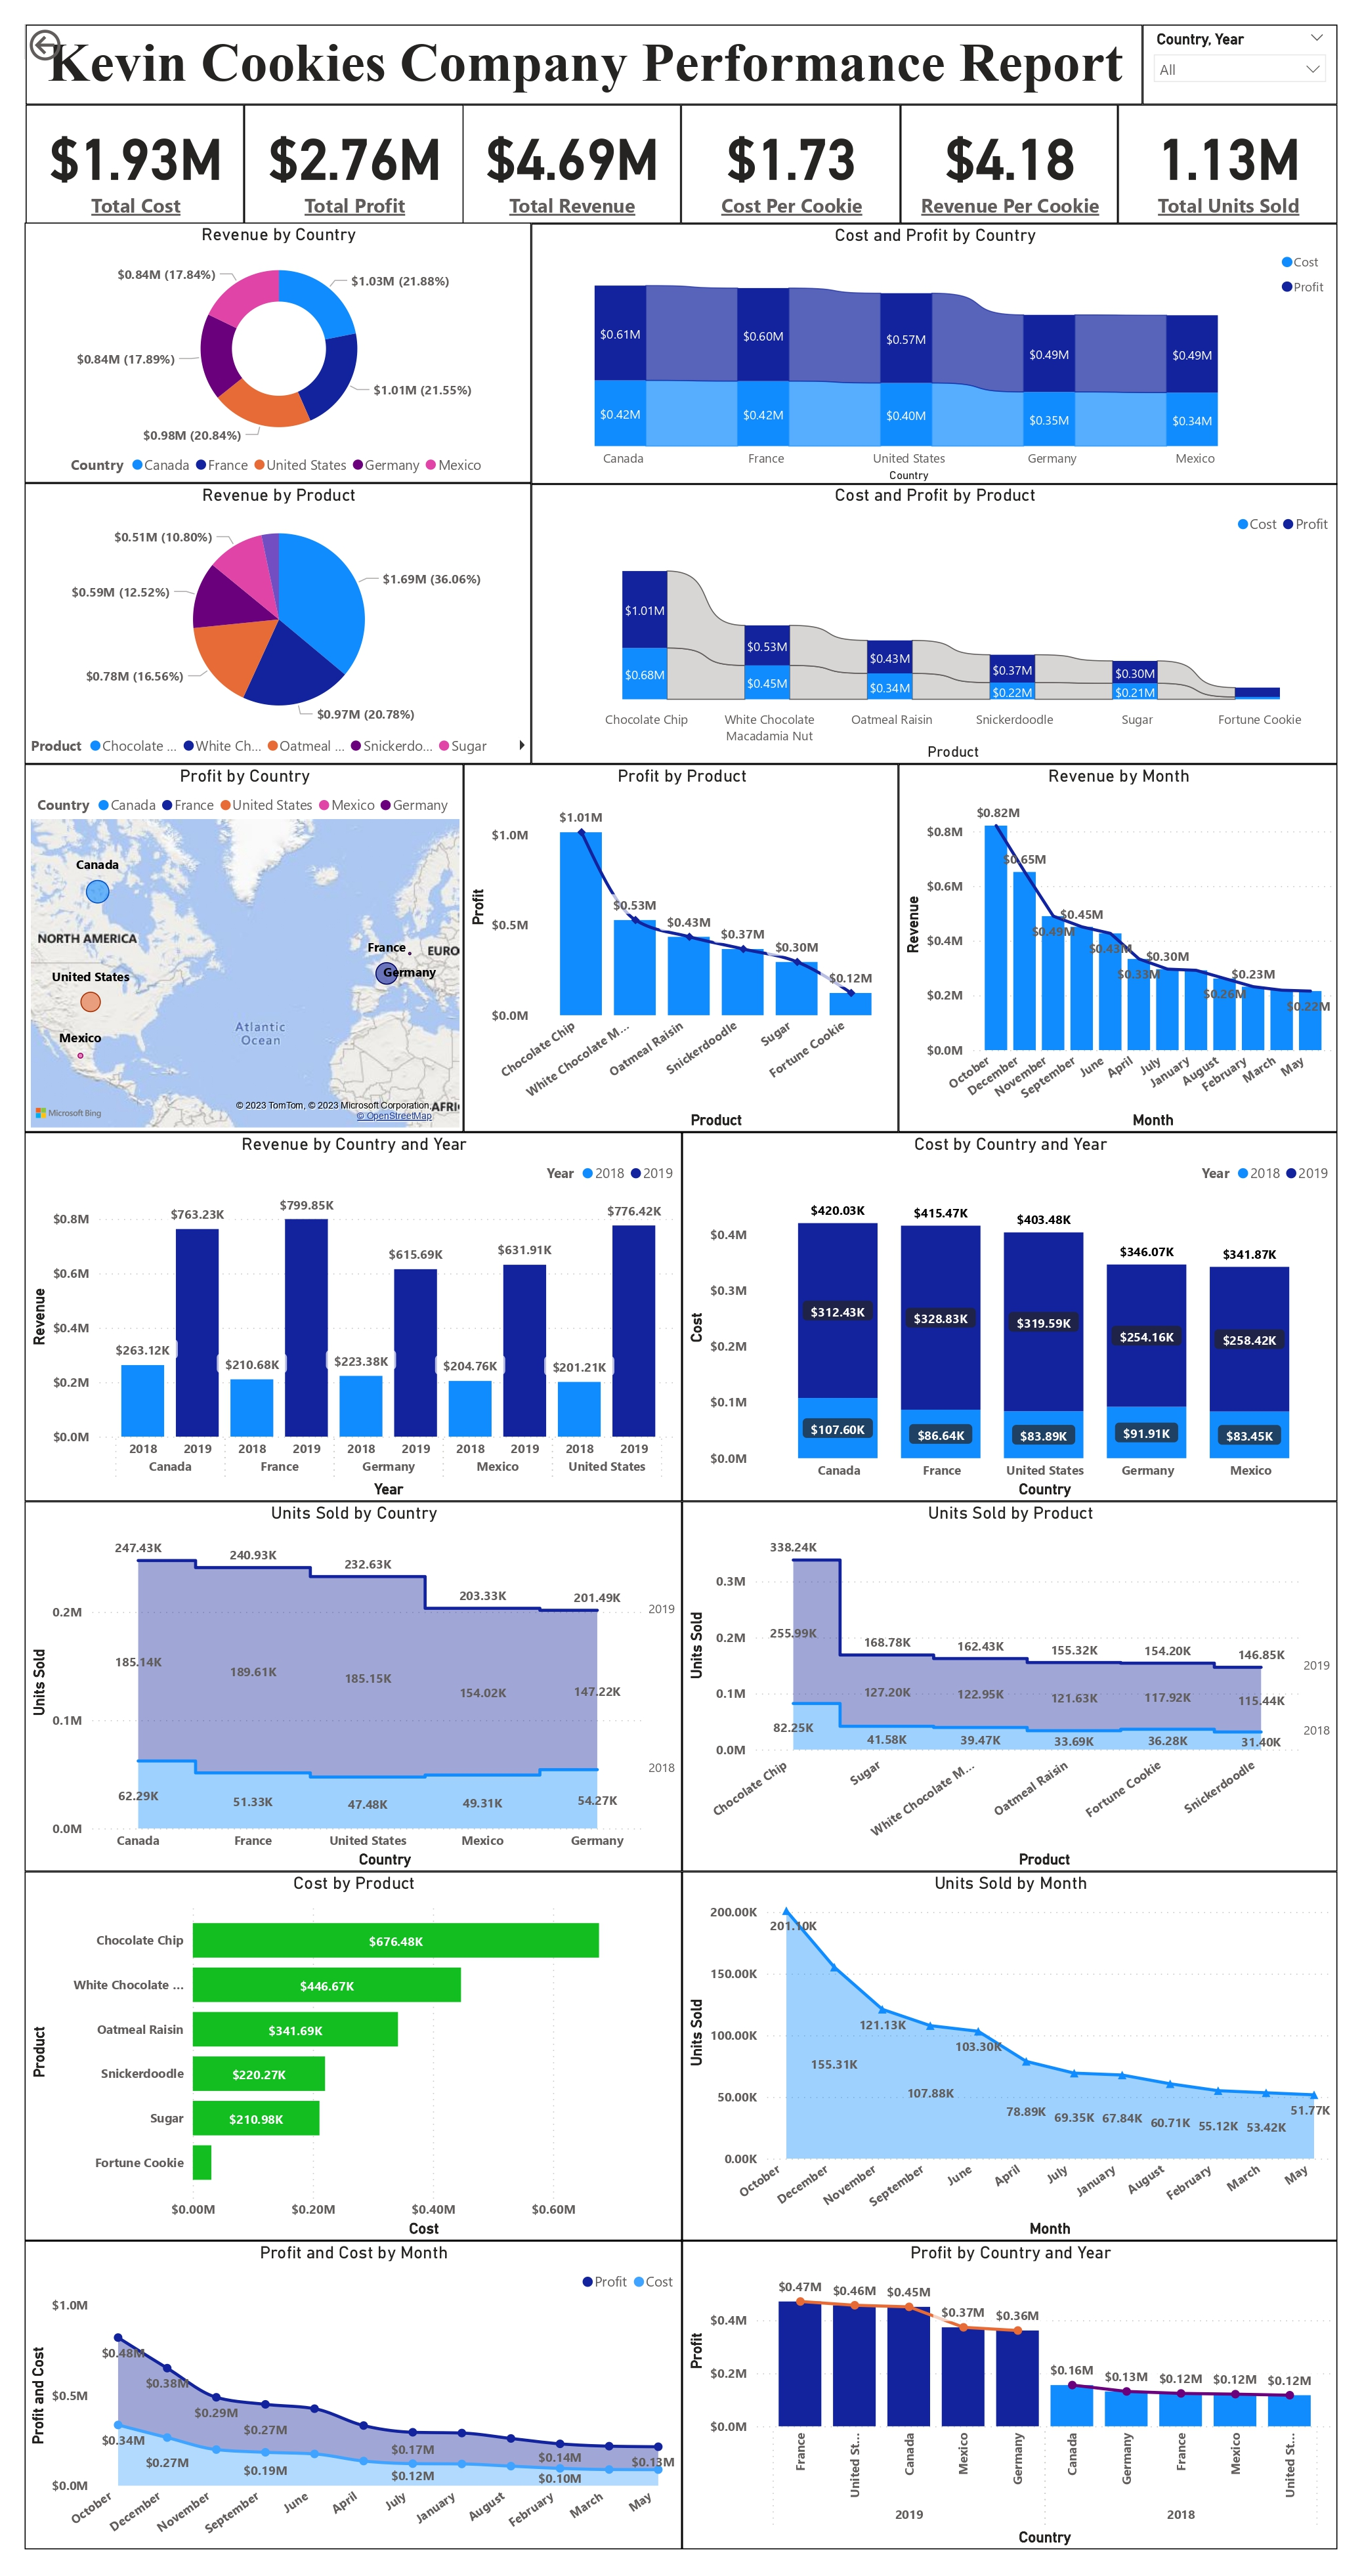

Layout of this report page (visuals, bound fields, positions):
{"tool":"powerbi","page":{"name":"Page 1","canvas":[1280,2464],"ordinal":0},"visuals":[{"type":"textbox","box":[1.4,0,1088.8,77.9],"z":0},{"type":"card","fields":{"Values":["Cookie Sales.Units Sold"]},"box":[1066,78,214,116],"z":1000},{"type":"card","fields":{"Values":["Cookie Sales.Cost per cookie"]},"box":[640,77.9,213.8,116.1],"z":2000},{"type":"card","fields":{"Values":["Cookie Sales.Revenue per cookie"]},"box":[853.8,77.9,212.4,116.1],"z":3000},{"type":"card","fields":{"Values":["Cookie Sales.Revenue"]},"box":[426.2,77.9,213.8,116.1],"z":4000},{"type":"card","fields":{"Values":["Cookie Sales.Cost"]},"box":[1.4,77.9,212.4,116.1],"z":5000},{"type":"card","fields":{"Values":["Cookie Sales.Profit"]},"box":[213.8,77.9,213.8,116.1],"z":6000},{"type":"slicer","fields":{"Values":["Cookie Sales.Country","Cookie Sales.Year"]},"box":[1090,0,190,78],"z":7000},{"type":"actionButton","box":[0,0,100,40],"z":8000},{"type":"map","title":"Profit by Country","fields":{"Category":["Cookie Sales.Country"],"Size":["Cookie Sales.Profit"],"Series":["Cookie Sales.Country"]},"box":[0,720.7,427.6,359.6],"z":9000},{"type":"lineStackedColumnComboChart","title":"Profit by Product","fields":{"Category":["Cookie Sales.Product"],"Y":["Cookie Sales.Profit"],"Y2":["Cookie Sales.Profit"]},"box":[427.6,720.7,424.8,359.6],"z":10000},{"type":"ribbonChart","fields":{"Category":["Cookie Sales.Country"],"Y":["Cookie Sales.Cost","Cookie Sales.Profit"]},"box":[494.2,194,785.8,254.9],"z":11000},{"type":"ribbonChart","fields":{"Y":["Cookie Sales.Cost","Cookie Sales.Profit"],"Category":["Cookie Sales.Product"]},"box":[494.2,447.4,785.8,273.3],"z":12000},{"type":"donutChart","title":"Revenue by Country","fields":{"Category":["Cookie Sales.Country"],"Y":["Cookie Sales.Revenue"]},"box":[0,192.6,494.2,254.9],"z":13000},{"type":"pieChart","title":"Revenue by Product","fields":{"Y":["Cookie Sales.Revenue"],"Category":["Cookie Sales.Product"]},"box":[0,447.4,494.2,273.3],"z":14000},{"type":"lineClusteredColumnComboChart","title":"Revenue by Month","fields":{"Category":["Cookie Sales.Month"],"Y":["Cookie Sales.Revenue"],"Y2":["Cookie Sales.Revenue"]},"box":[852.4,720.7,427.6,359.6],"z":15000},{"type":"lineStackedColumnComboChart","title":"Revenue by Country and Year","fields":{"Category":["Cookie Sales.Country","Cookie Sales.Year"],"Y":["Cookie Sales.Revenue"],"Series":["Cookie Sales.Year"]},"box":[0,1080,641,360],"z":16000},{"type":"lineStackedColumnComboChart","title":"Cost by Country and Year","fields":{"Y":["Cookie Sales.Cost"],"Series":["Cookie Sales.Year"],"Category":["Cookie Sales.Country"]},"box":[641.4,1080.4,638.6,359.6],"z":17000},{"type":"stackedAreaChart","title":"Units Sold by Country","fields":{"Category":["Cookie Sales.Country"],"Y":["Cookie Sales.Units Sold"],"Series":["Cookie Sales.Year"]},"box":[0,1440,641,361],"z":18000},{"type":"stackedAreaChart","title":"Units Sold by Product","fields":{"Y":["Cookie Sales.Units Sold"],"Series":["Cookie Sales.Year"],"Category":["Cookie Sales.Product"]},"box":[641,1440,639,361],"z":19000},{"type":"clusteredBarChart","title":"Cost by Product","fields":{"Category":["Cookie Sales.Product"],"Y":["Cookie Sales.Cost"]},"box":[0,1801.1,641.4,359.6],"z":20000},{"type":"stackedAreaChart","title":"Units Sold by Month","fields":{"Category":["Cookie Sales.Month"],"Y":["Cookie Sales.Units Sold"]},"box":[641.4,1801.1,638.6,359.6],"z":21000},{"type":"stackedAreaChart","title":"Profit and Cost by Month","fields":{"Category":["Cookie Sales.Month"],"Y":["Cookie Sales.Profit","Cookie Sales.Cost"]},"box":[0,2160.7,641.4,301.6],"z":22000},{"type":"lineStackedColumnComboChart","title":"Profit by Country and Year","fields":{"Category":["Cookie Sales.Year","Cookie Sales.Country"],"Y":["Cookie Sales.Profit"],"Y2":["Cookie Sales.Profit"],"Series":["Cookie Sales.Year"]},"box":[641.4,2160.7,638.6,301.6],"z":23000}]}

Visuals, with their boxes on the page's 1280x2464 design canvas (x1, y1, x2, y2). These are canvas units, not pixel positions in the 1362x2576 screenshot, which may show the page scaled, cropped or inside an application window:
textbox: detection(1, 0, 1090, 78)
card - Cookie Sales.Units Sold: detection(1066, 78, 1280, 194)
card - Cookie Sales.Cost per cookie: detection(640, 78, 854, 194)
card - Cookie Sales.Revenue per cookie: detection(854, 78, 1066, 194)
card - Cookie Sales.Revenue: detection(426, 78, 640, 194)
card - Cookie Sales.Cost: detection(1, 78, 214, 194)
card - Cookie Sales.Profit: detection(214, 78, 428, 194)
slicer - Cookie Sales.Country x Cookie Sales.Year: detection(1090, 0, 1280, 78)
actionButton: detection(0, 0, 100, 40)
"Profit by Country" map: detection(0, 721, 428, 1080)
"Profit by Product" lineStackedColumnComboChart: detection(428, 721, 852, 1080)
ribbonChart - Cookie Sales.Country x Cookie Sales.Cost: detection(494, 194, 1280, 449)
ribbonChart - Cookie Sales.Cost x Cookie Sales.Profit: detection(494, 447, 1280, 721)
"Revenue by Country" donutChart: detection(0, 193, 494, 448)
"Revenue by Product" pieChart: detection(0, 447, 494, 721)
"Revenue by Month" lineClusteredColumnComboChart: detection(852, 721, 1280, 1080)
"Revenue by Country and Year" lineStackedColumnComboChart: detection(0, 1080, 641, 1440)
"Cost by Country and Year" lineStackedColumnComboChart: detection(641, 1080, 1280, 1440)
"Units Sold by Country" stackedAreaChart: detection(0, 1440, 641, 1801)
"Units Sold by Product" stackedAreaChart: detection(641, 1440, 1280, 1801)
"Cost by Product" clusteredBarChart: detection(0, 1801, 641, 2161)
"Units Sold by Month" stackedAreaChart: detection(641, 1801, 1280, 2161)
"Profit and Cost by Month" stackedAreaChart: detection(0, 2161, 641, 2462)
"Profit by Country and Year" lineStackedColumnComboChart: detection(641, 2161, 1280, 2462)
